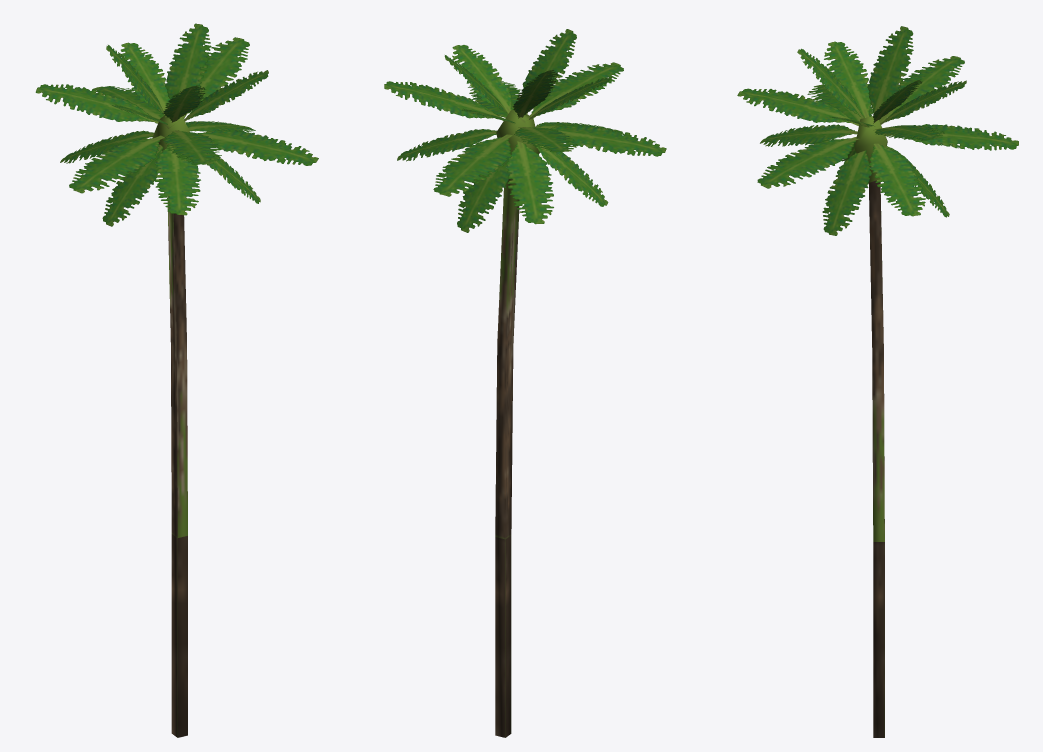
File: palm_tree_2_2.dae
The picture shows the model from 3 angles, left to right: view 1: azimuth 30°, elevation 25°; view 2: azimuth 150°, elevation 25°; view 3: azimuth 270°, elevation 25°; orthographic projection.
Parts seen in each view (by area): view 1: Cube; view 2: Cube; view 3: Cube.
Part boxes in pixels (x1,y1,x2,y2): Cube: [35, 23, 318, 737]; Cube: [384, 29, 666, 737]; Cube: [737, 26, 1018, 737].
Bounding box in the file's own units: 0.3431 × 0.3347 × 0.7976.
Materials: 1 (1 with a texture image).
